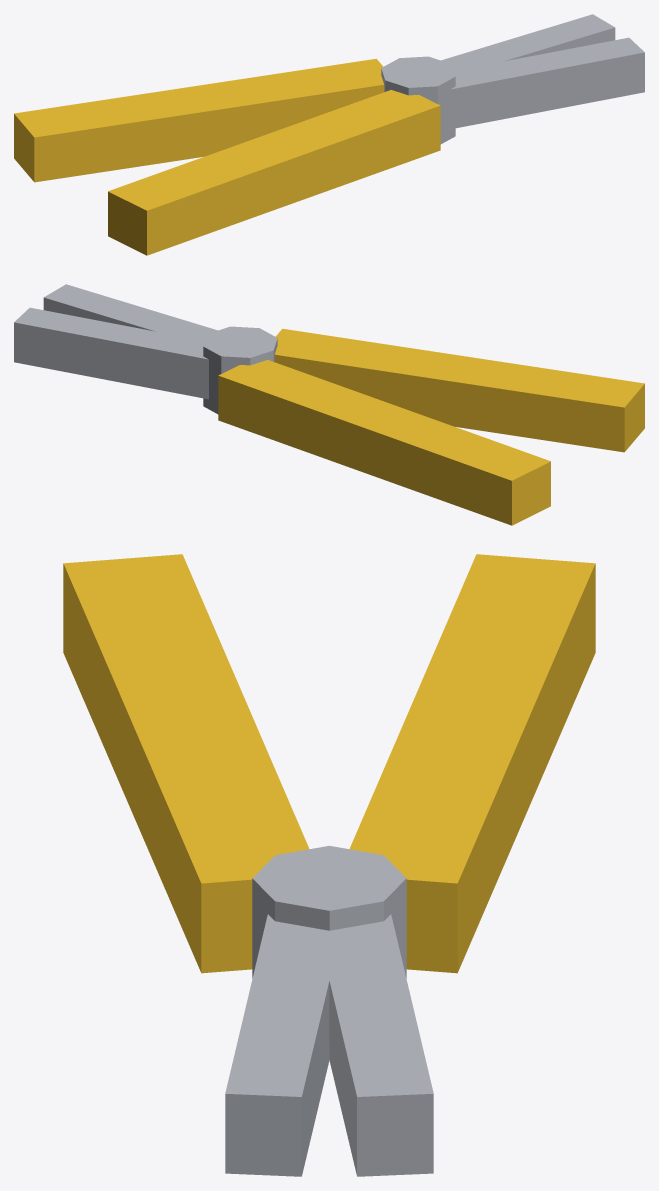
Rendered from garage_pliers.glb.
The picture shows the model from 3 angles, top to bottom: view 1: azimuth 30°, elevation 25°; view 2: azimuth 150°, elevation 25°; view 3: azimuth 270°, elevation 25°; orthographic projection. The views are drawn at different scales.
Parts seen in each view (by area): view 1: grip_pliers_grip, jaw_tool_chrome (×2), pivot_tool_chrome; view 2: grip_pliers_grip, jaw_tool_chrome (×2), pivot_tool_chrome; view 3: grip_pliers_grip, jaw_tool_chrome (×2), pivot_tool_chrome.
Boxes of the visible parts, <box> form: grip_pliers_grip: <box>14,58,440,255</box>; jaw_tool_chrome (×2): <box>441,14,644,129</box>; pivot_tool_chrome: <box>381,56,455,144</box>; grip_pliers_grip: <box>218,328,644,525</box>; jaw_tool_chrome (×2): <box>14,284,217,399</box>; pivot_tool_chrome: <box>203,326,277,414</box>; grip_pliers_grip: <box>63,554,595,973</box>; jaw_tool_chrome (×2): <box>225,914,433,1176</box>; pivot_tool_chrome: <box>252,845,406,978</box>.
Bounding box in the file's own units: 0.2313 × 0.024 × 0.0967.
